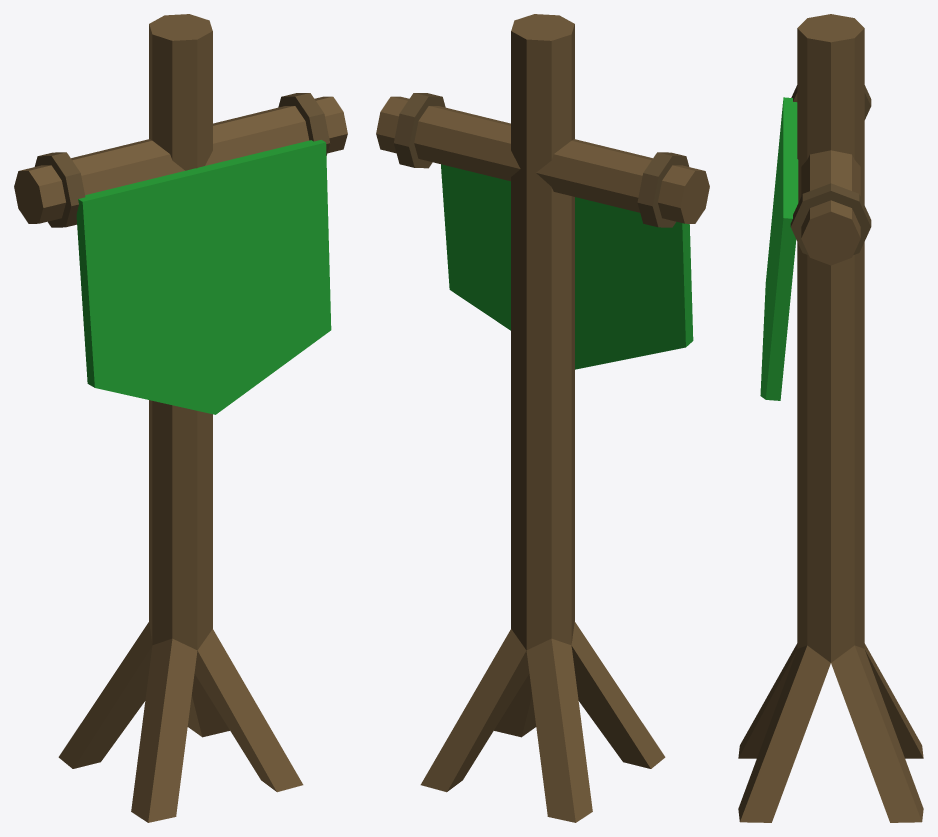
Rendered from Flag.fbx.
3 renders of one model, left to right at view 1: azimuth 30°, elevation 25°; view 2: azimuth 150°, elevation 25°; view 3: azimuth 270°, elevation 25°, orthographic.
Parts seen in each view (by area): view 1: Circle; view 2: Circle; view 3: Circle.
Part boxes in pixels (<box>): Circle: <box>14,14,347,822</box>; Circle: <box>376,14,709,822</box>; Circle: <box>738,14,923,822</box>.
Bounding box in the file's own units: 60 × 140 × 31.12.
